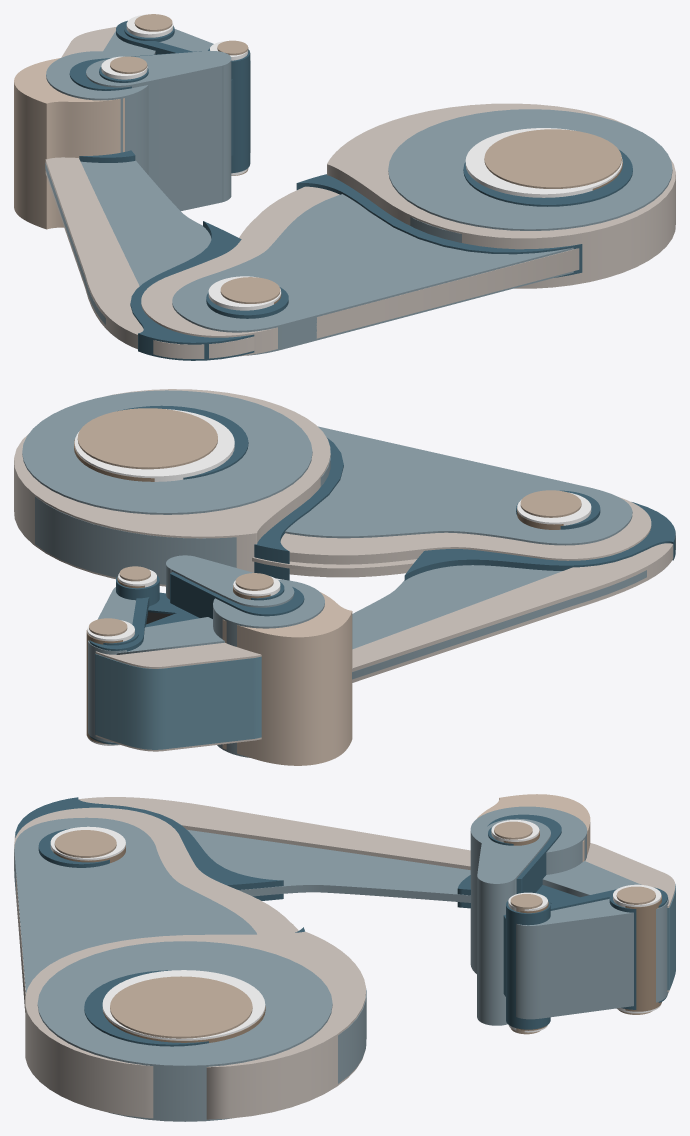
Rendered from emoji_u1f9be.glb.
3 views of the same model, one above another, from view 1: azimuth 30°, elevation 25°; view 2: azimuth 150°, elevation 25°; view 3: azimuth 270°, elevation 25° (orthographic). The views are drawn at different scales.
Parts seen in each view (by area): view 1: emoji_u1f9be; view 2: emoji_u1f9be; view 3: emoji_u1f9be.
Part boxes in pixels (left/top/right/bottom): emoji_u1f9be: left=14, top=14, right=675, bottom=360; emoji_u1f9be: left=14, top=389, right=675, bottom=765; emoji_u1f9be: left=14, top=794, right=675, bottom=1121.
Size of the model in its own units: 0.0332 by 0.0084 by 0.0321.
